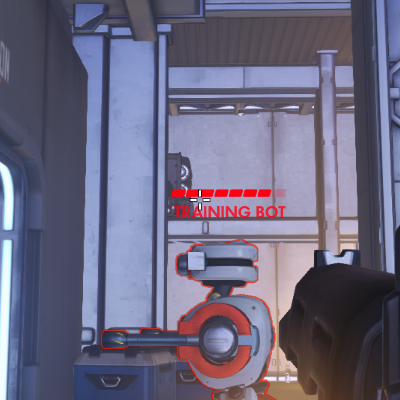hpbar: (170, 188, 287, 198)
